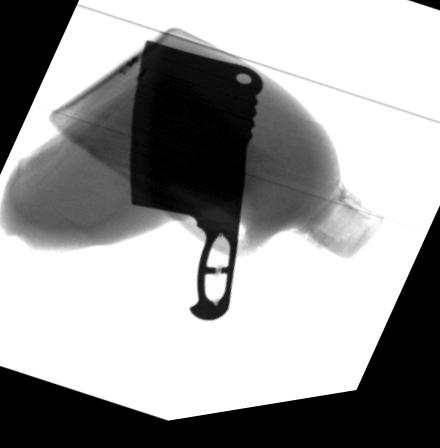Knife: (128, 43, 264, 329)
